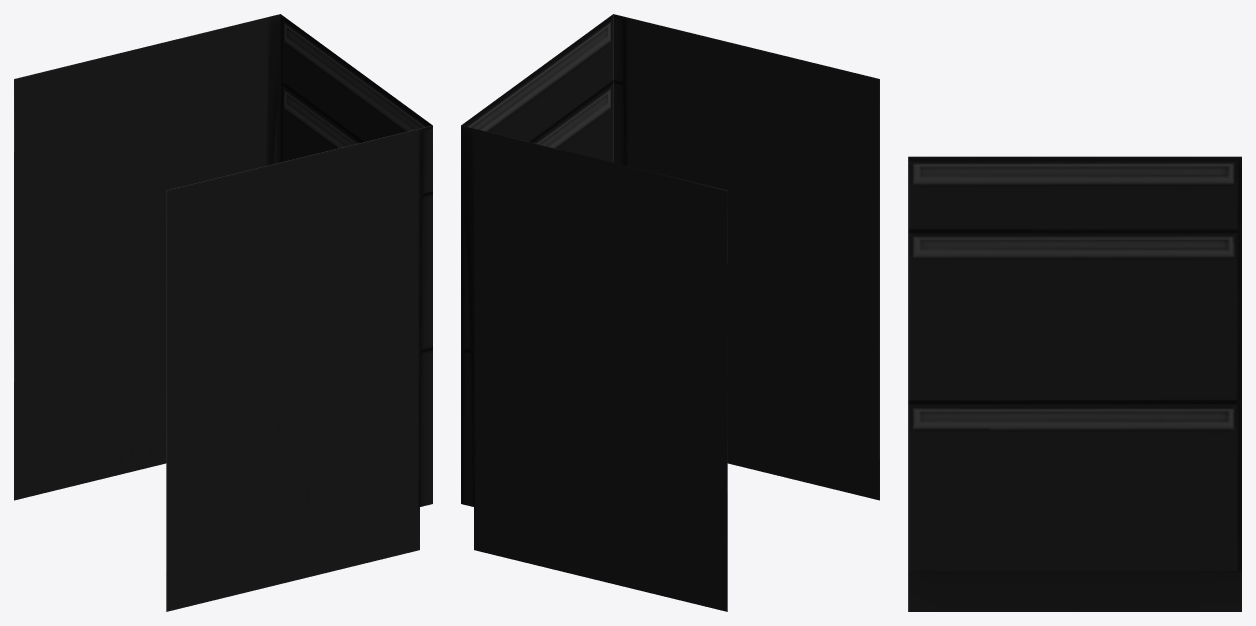
Rendered from z_office_chest.FBX.
3 views of the same model, side by side, from view 1: azimuth 30°, elevation 25°; view 2: azimuth 150°, elevation 25°; view 3: azimuth 270°, elevation 25° (orthographic). The views are drawn at different scales.
Parts seen in each view (by area): view 1: chest_low; view 2: chest_low; view 3: chest_low.
Part boxes in pixels (bbox=[...]): chest_low: bbox=[14, 14, 432, 611]; chest_low: bbox=[461, 14, 879, 611]; chest_low: bbox=[908, 156, 1241, 611].
Size of the model in its own units: 0.4621 by 0.6985 by 0.4572.
Materials: 1 (1 with a texture image).
